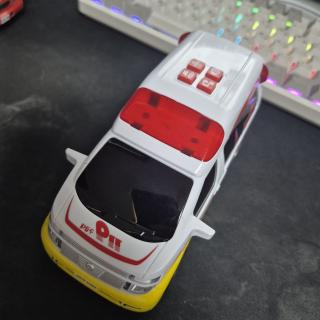Ambulance: (42, 31, 267, 311)
